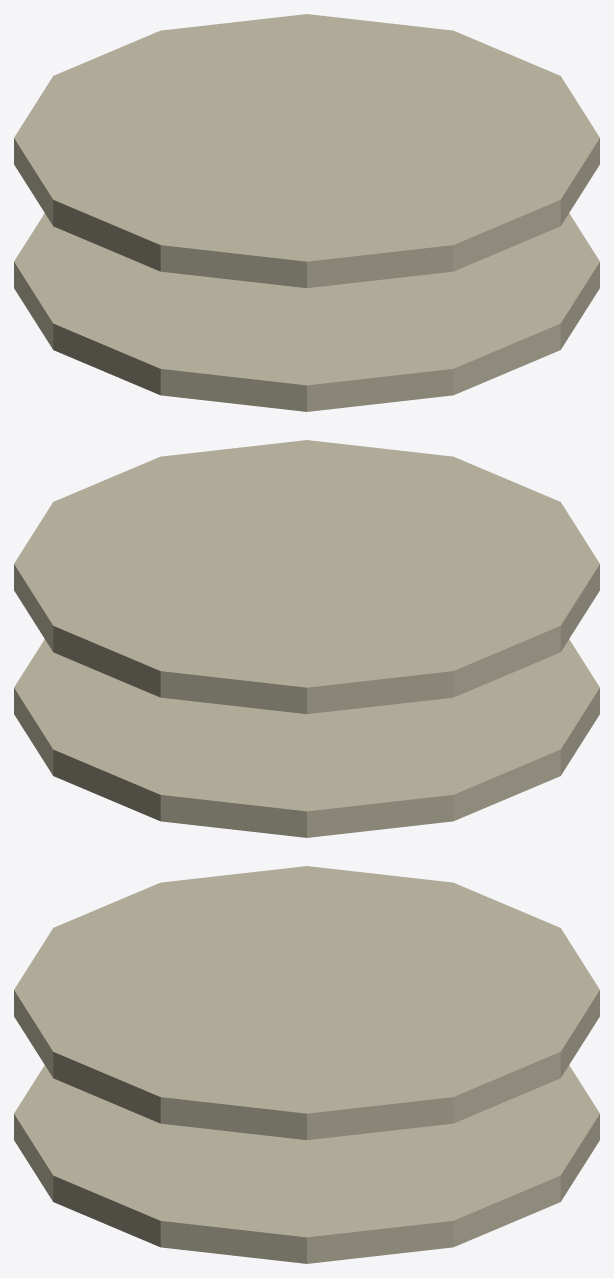
The model's file is yoyo-axle_ring.glb.
3 renders of one model, top to bottom at view 1: azimuth 30°, elevation 25°; view 2: azimuth 150°, elevation 25°; view 3: azimuth 270°, elevation 25°, orthographic.
Visible parts, largest first — view 1: axle_ring_4, axle_ring_1; view 2: axle_ring_4, axle_ring_1; view 3: axle_ring_4, axle_ring_1.
Part boxes in pixels (left/top/right/bottom): axle_ring_4: left=14, top=14, right=599, bottom=288; axle_ring_1: left=14, top=213, right=599, bottom=411; axle_ring_4: left=14, top=440, right=599, bottom=714; axle_ring_1: left=14, top=639, right=599, bottom=837; axle_ring_4: left=14, top=866, right=599, bottom=1140; axle_ring_1: left=14, top=1065, right=599, bottom=1263.
Size of the model in its own units: 0.02 by 0.00566 by 0.02.
